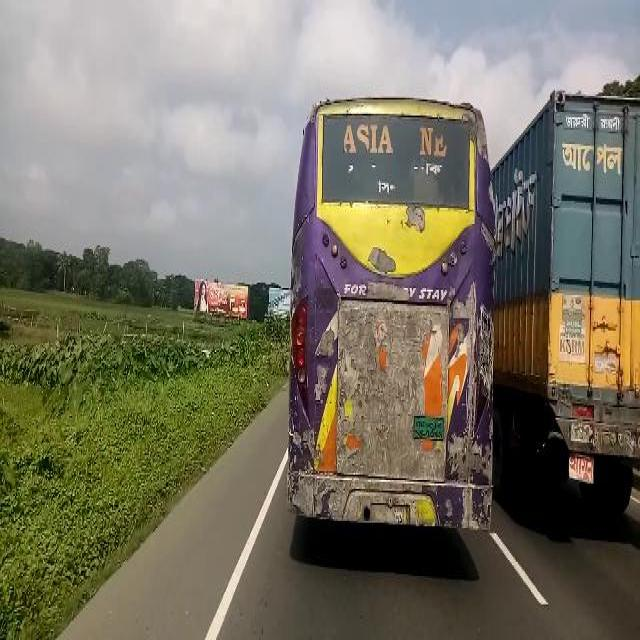bus: (291, 94, 497, 535)
truck: (495, 90, 639, 514)
